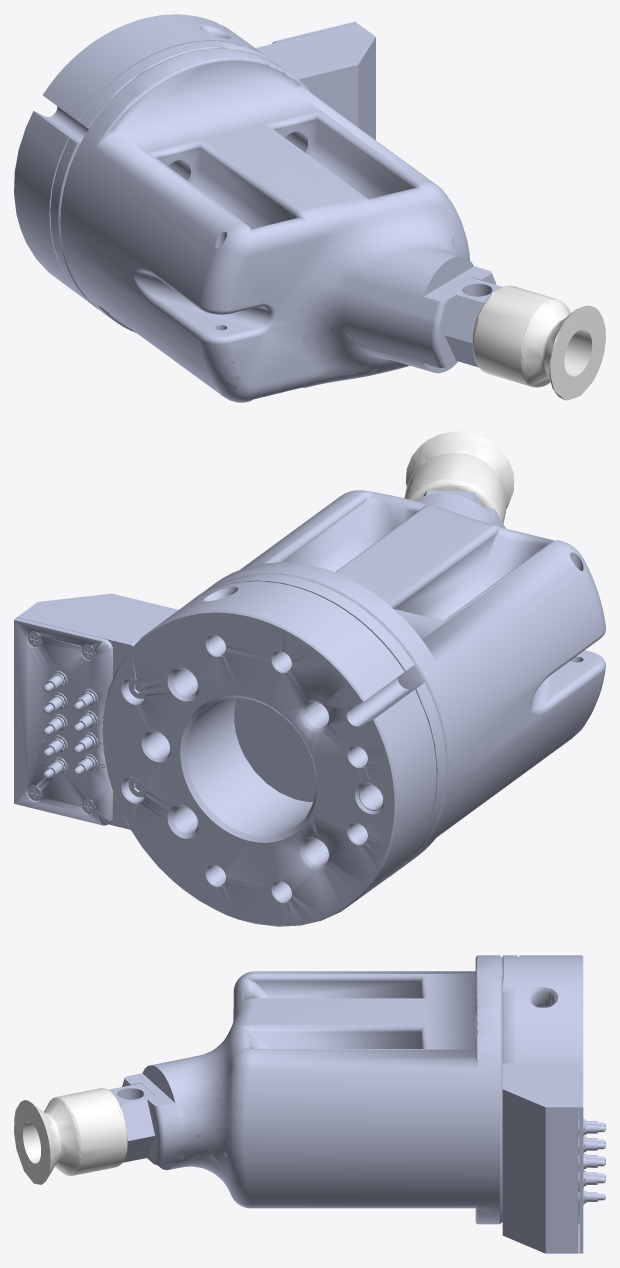
File: rcup16_p0.glb
3 renders of one model, top to bottom at view 1: azimuth 30°, elevation 25°; view 2: azimuth 150°, elevation 25°; view 3: azimuth 270°, elevation 25°, orthographic. The views are drawn at different scales.
Size of the model in its own units: 0.0649 by 0.05 by 0.11.
